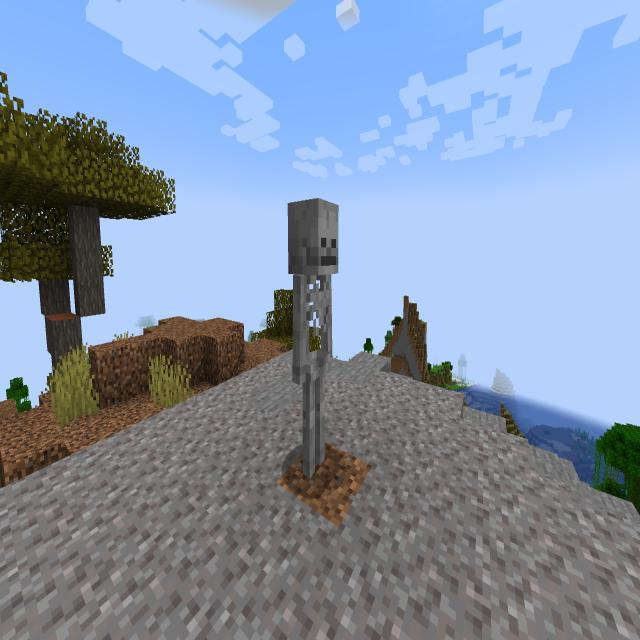Skeleton: (276, 175, 346, 496)
